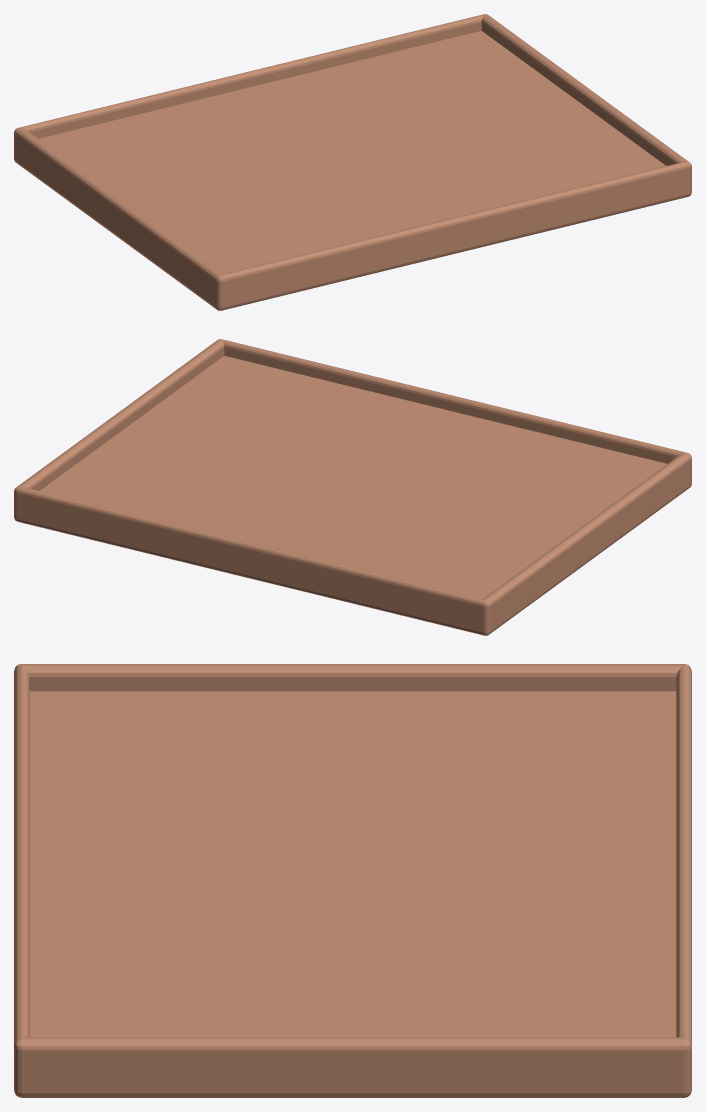
The model's file is Bed_frame.fbx.
3 renders of one model, top to bottom at view 1: azimuth 30°, elevation 25°; view 2: azimuth 150°, elevation 25°; view 3: azimuth 270°, elevation 25°, orthographic. The views are drawn at different scales.
Visible parts, largest first — view 1: Bed_frame; view 2: Bed_frame; view 3: Bed_frame.
Part boxes in pixels (x1,y1,x2,y2): Bed_frame: (14, 14, 691, 310); Bed_frame: (14, 339, 691, 635); Bed_frame: (14, 664, 691, 1097).
Bounding box in the file's own units: 200 × 14 × 150.
